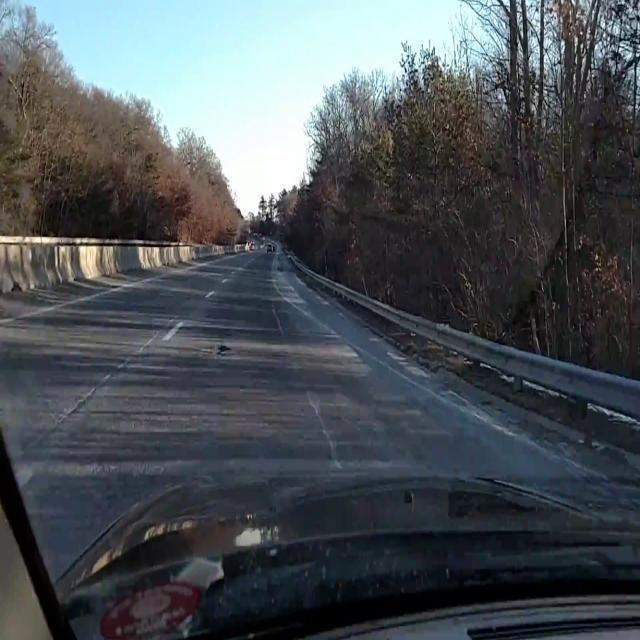pothole: (202, 342, 232, 358)
